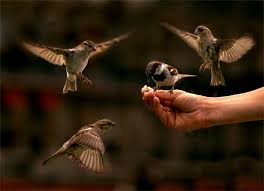hsparrow: (12, 30, 137, 95), (157, 13, 257, 88), (40, 114, 121, 178), (144, 59, 198, 97)
